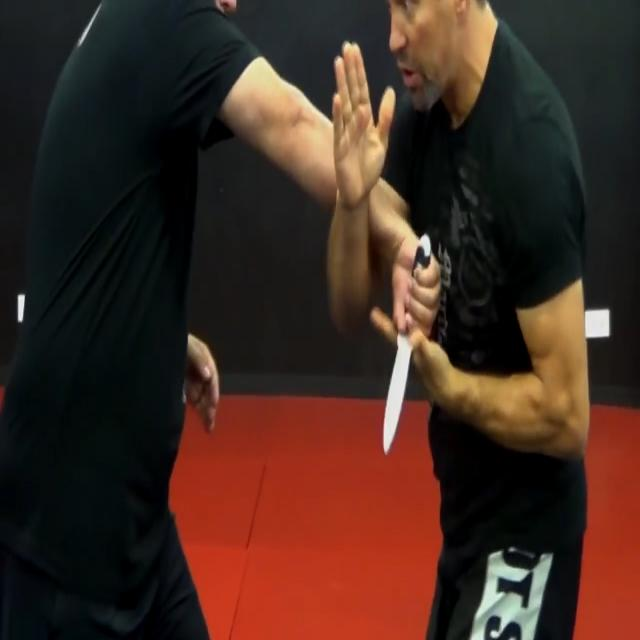knife: (380, 234, 434, 461)
